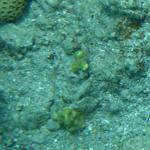dead: (2, 1, 143, 139)
